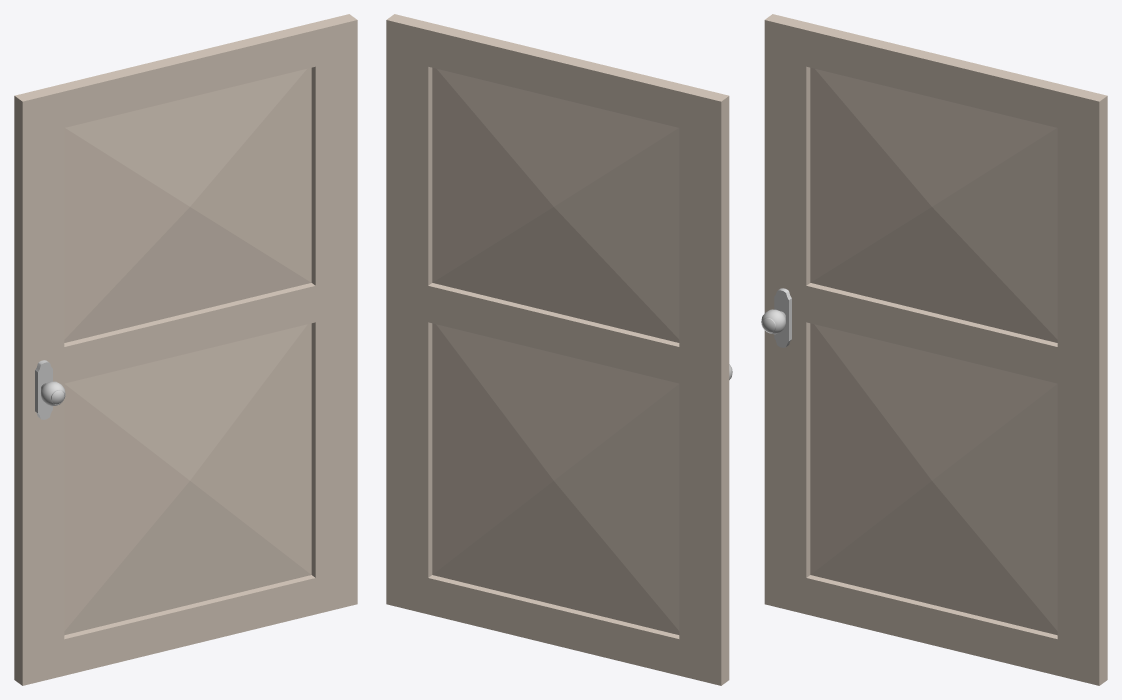
The model's file is Door.fbx.
The picture shows the model from 3 angles, left to right: view 1: azimuth 30°, elevation 25°; view 2: azimuth 150°, elevation 25°; view 3: azimuth 330°, elevation 25°; orthographic projection.
Visible parts, largest first — view 1: Door; view 2: Door; view 3: Door.
Part boxes in pixels (x1,y1,x2,y2): Door: [14, 14, 357, 685]; Door: [386, 14, 732, 685]; Door: [761, 14, 1107, 685].
Bounding box in the file's own units: 0.1722 × 1.33 × 2.22.
